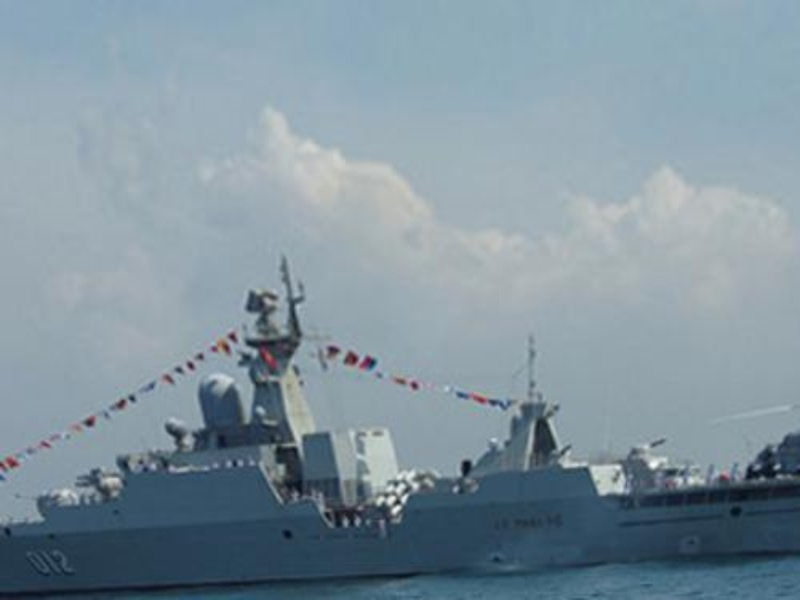cruise: (14, 338, 797, 560)
